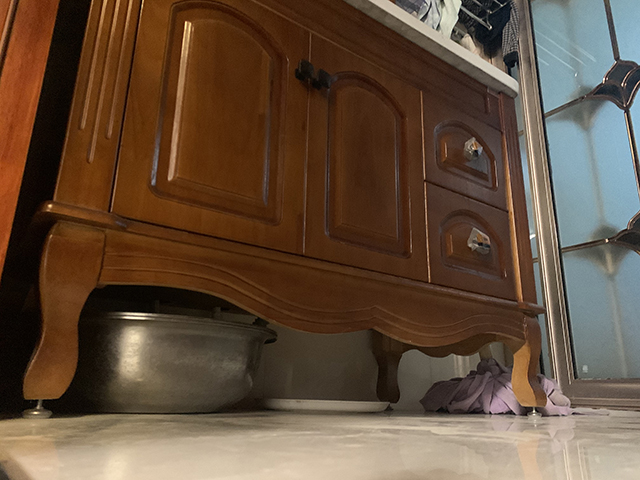cabinet: (21, 1, 549, 419)
